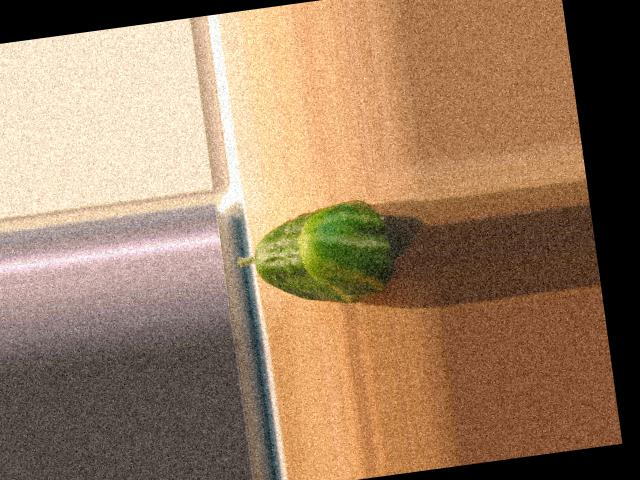cucumber: (230, 194, 398, 316)
